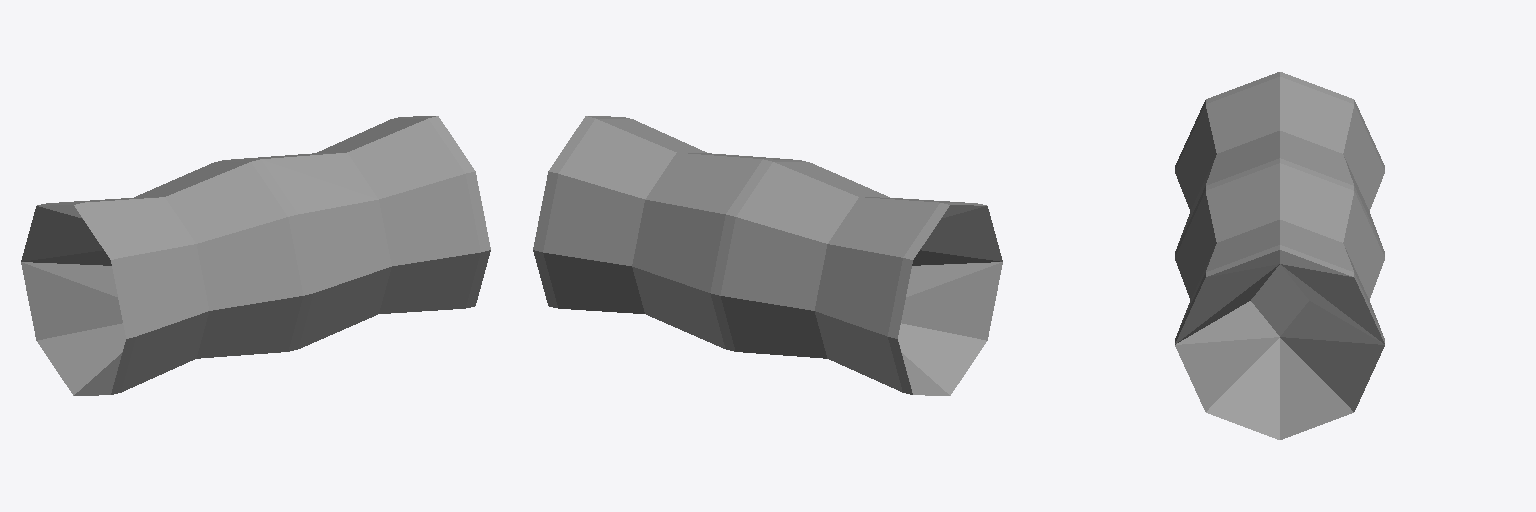
File: enemy1.obj
The picture shows the model from 3 angles: view 1: azimuth 30°, elevation 25°; view 2: azimuth 150°, elevation 25°; view 3: azimuth 270°, elevation 25°; orthographic projection.
Visible parts, largest first — view 1: FISHTRAP; view 2: FISHTRAP; view 3: FISHTRAP.
Boxes of the visible parts, box(x1,y1,x2,y2) form: FISHTRAP: box(21, 116, 490, 395); FISHTRAP: box(533, 116, 1002, 395); FISHTRAP: box(1175, 72, 1384, 439).
Bounding box in the file's own units: 0.0963 × 0.0482 × 0.0482.